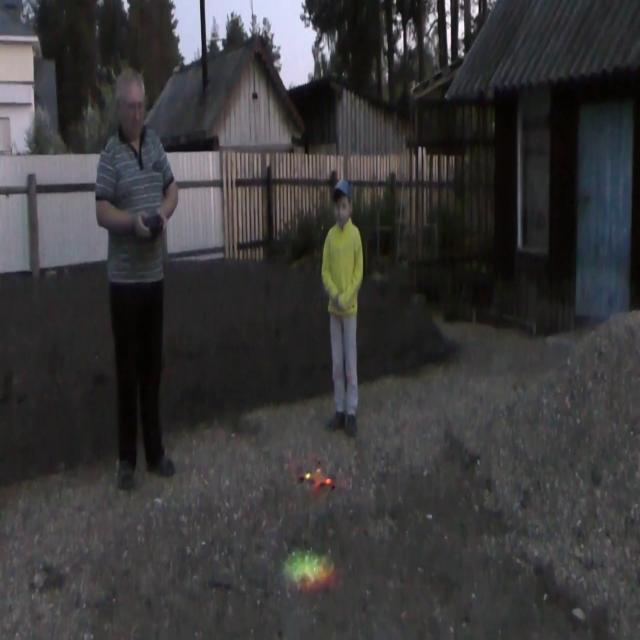Drons: (282, 452, 354, 508)
